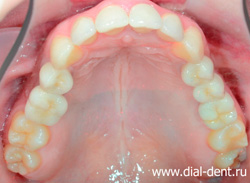UL1BC_healthy: (182, 58, 213, 87)
UL1M_healthy: (198, 93, 235, 131)
UL2BC_healthy: (194, 76, 224, 102)
UL2M_decay: (211, 147, 247, 166)
UL2M_healthy: (208, 123, 246, 153)
ULCI_healthy: (128, 5, 160, 37)
ULC_healthy: (170, 26, 203, 59)
ULLI_healthy: (155, 18, 184, 43)
UR1BC_healthy: (38, 62, 74, 96)
UR1M_healthy: (7, 109, 52, 149)
UR2BC_healthy: (23, 87, 67, 126)
UR2M_healthy: (2, 146, 40, 177)
URCI_healthy: (96, 5, 129, 35)
URC_healthy: (49, 36, 84, 69)
URLI_healthy: (71, 16, 97, 46)
